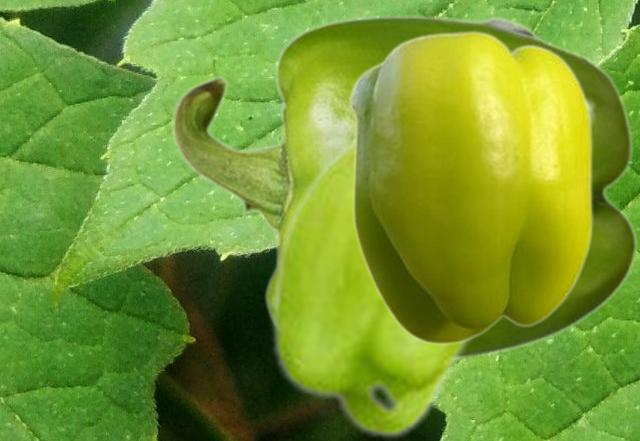bell_pepper: (171, 14, 637, 359), (269, 93, 597, 439), (348, 29, 592, 344)
